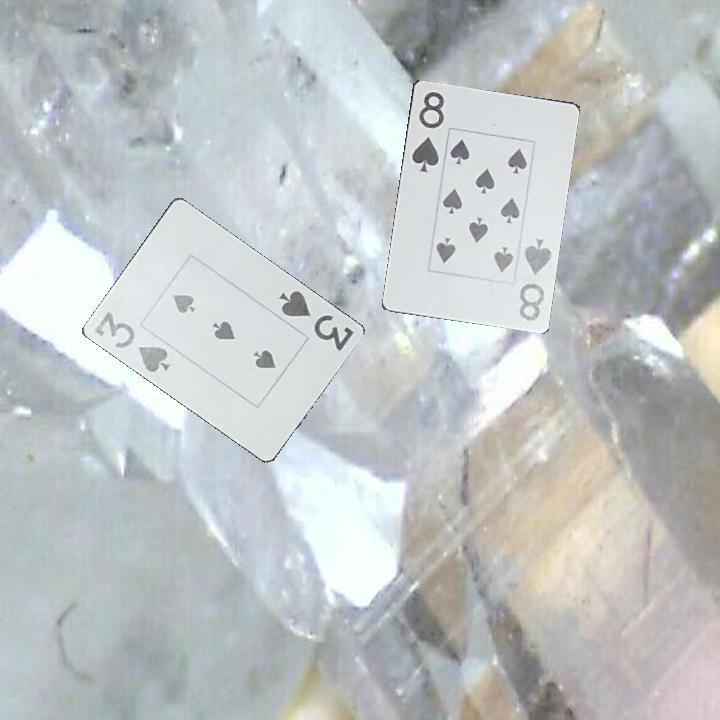3s: (90, 308, 173, 376), (275, 287, 356, 354)
8s: (408, 87, 447, 175), (516, 235, 554, 323)
